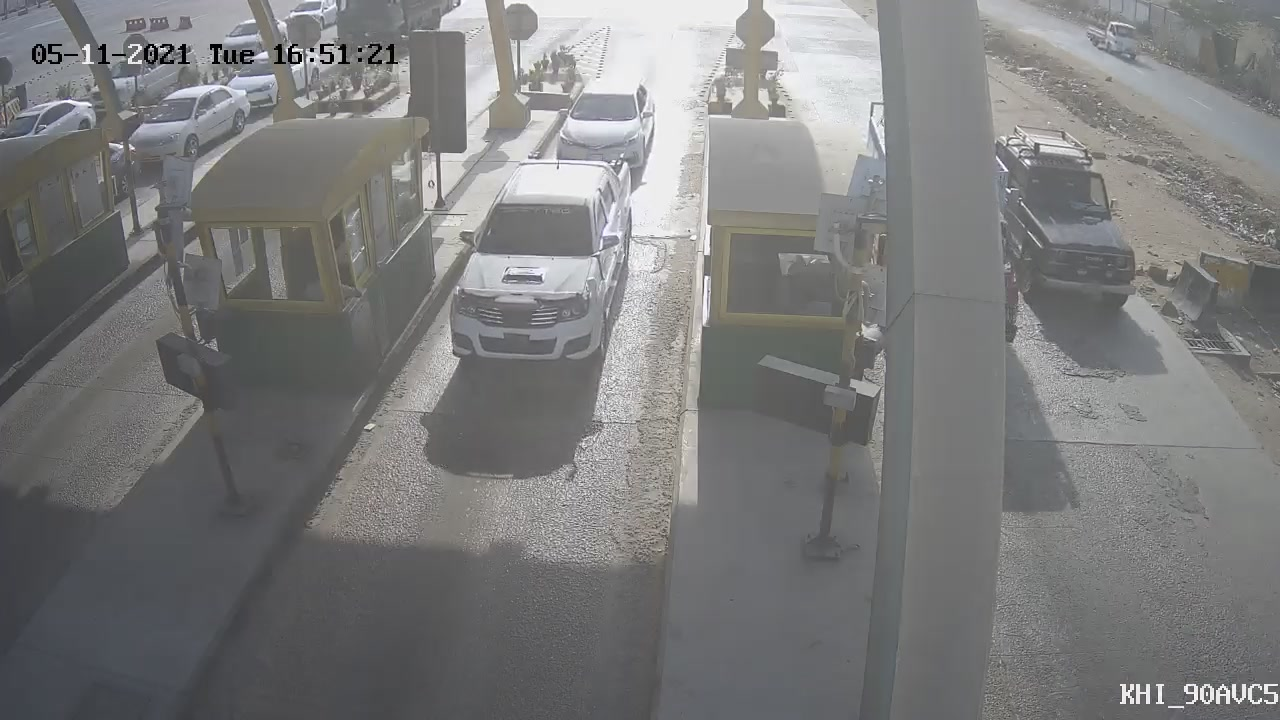F1: (425, 139, 657, 386), (540, 64, 669, 188)
